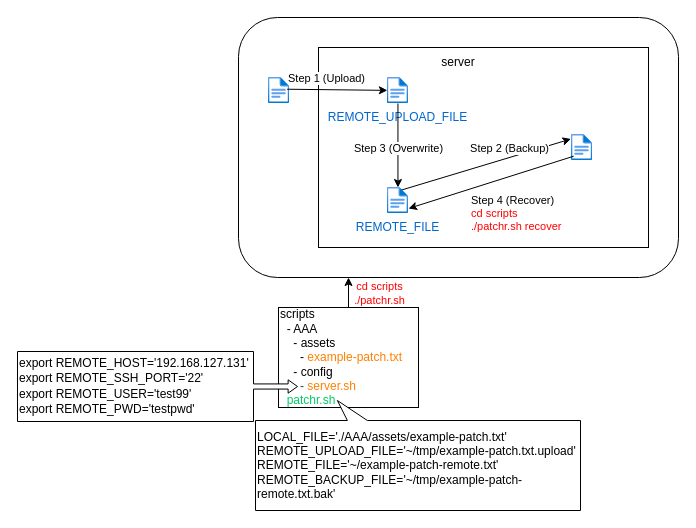
Some shapes in this 696 by 528 pixel diagram are drawn without their labels. Here are the shapes that lost their labels. From the top down, the centre of each, then its label:
the point at 278,90: LOCAL_FILE
the point at 581,147: REMOTE_BACKUP_FILE
